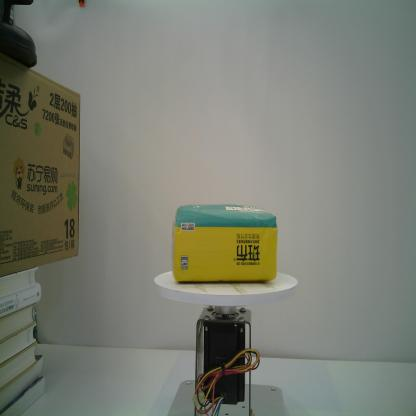Tissue: (170, 201, 278, 287)
